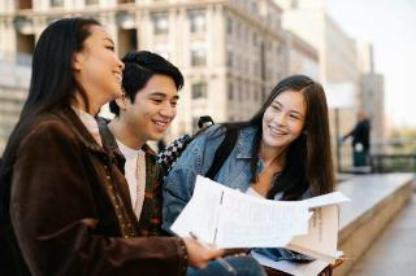person: (198, 65, 345, 276), (20, 11, 132, 276), (114, 31, 186, 249)
